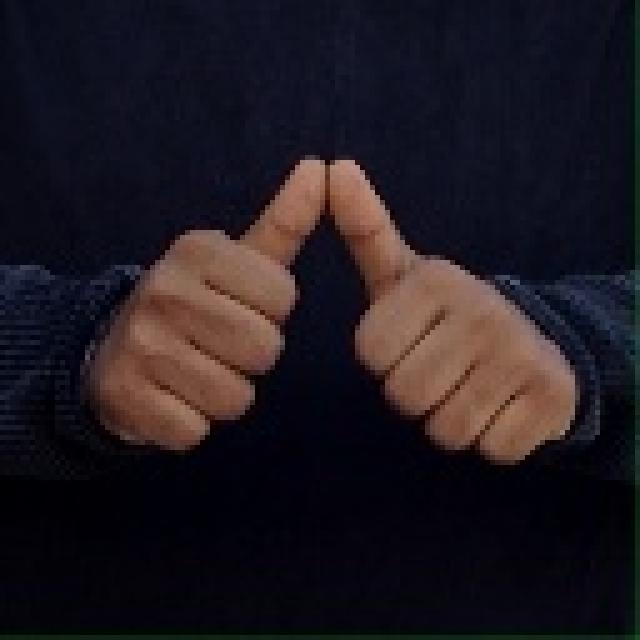Alphabet-A: (81, 160, 585, 483)
